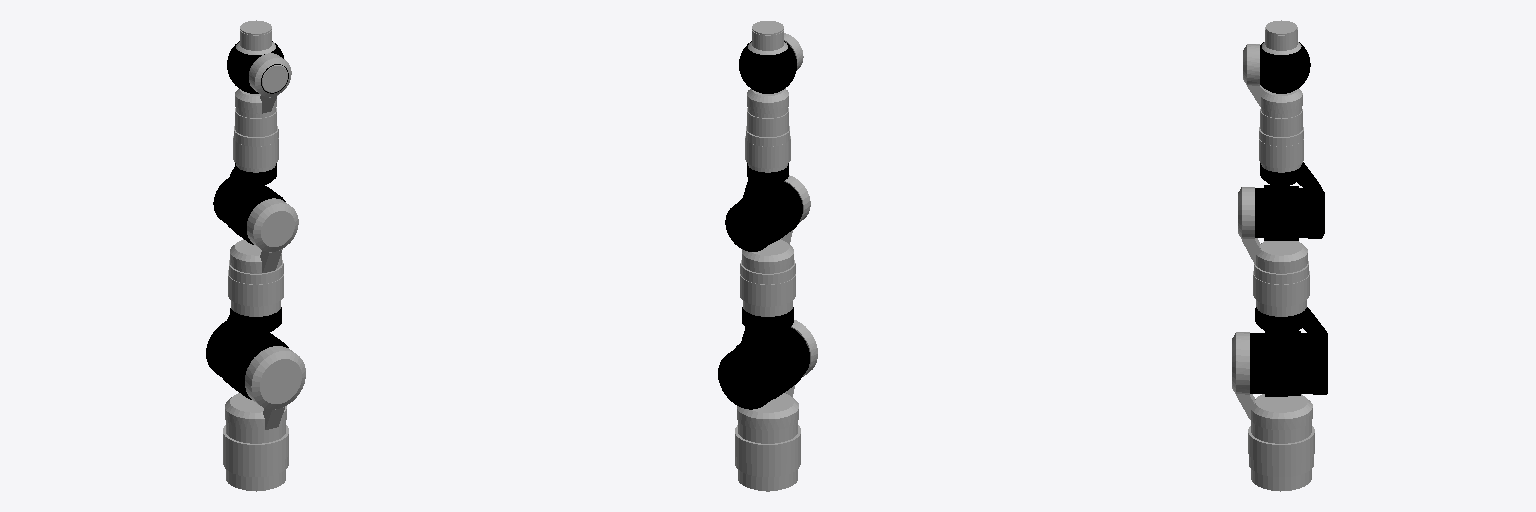
URDF robot description (schunk_lwa4d):
<?xml version="1.0" ?>
<!-- =================================================================================== -->
<!-- |    This document was autogenerated by xacro from lwa4d.xacro                    | -->
<!-- |    EDITING THIS FILE BY HAND IS NOT RECOMMENDED                                 | -->
<!-- =================================================================================== -->
<robot name="schunk_lwa4d">
  <!-- joint between base_link and lwa4p_extended_connector_link -->
  <link name="world"/>

  <joint name="lwa4d_base_joint" type="fixed">
    <origin rpy="0 0 0" xyz="0 0 0"/>
    <parent link="world"/>
    <child link="lwa4d_base_link"/>
  </joint>
  <link name="lwa4d_base_link">
    <inertial>
      <mass value="0.01"/>
      <origin xyz="0 0 0"/>
      <inertia ixx="0.001" ixy="0.0" ixz="0.0" iyy="0.001" iyz="0.0" izz="0.001"/>
    </inertial>
  </link>
  <!-- joint between arm_base_link and arm_1_link -->
  <joint name="lwa4d_1_joint" type="revolute">
    <origin rpy="0 0 0" xyz="0 0 0"/>
    <parent link="lwa4d_base_link"/>
    <child link="lwa4d_1_link"/>
    <axis xyz="0 0 1"/>
    <limit effort="216" lower="-3.121592653589793" upper="3.121592653589793" velocity="0.43633"/>
  </joint>
  <link name="lwa4d_1_link">
    <inertial>
      <mass value="0.01"/>
      <origin xyz="0 0 0"/>
      <inertia ixx="0.001" ixy="0.0" ixz="0.0" iyy="0.001" iyz="0.0" izz="0.001"/>
    </inertial>
    <!--
      <xacro:cylinder_inertial radius="0.06" length="0.150" mass="3.6">
          <origin xyz="0 0 0.02" rpy="0 0 0"/>
      </xacro:cylinder_inertial>
-->
    <visual>
      <geometry>
        <mesh filename="meshes/lwa4d/arm_1_link.dae"/>
      </geometry>
      <material name="Schunk/LightGrey"/>
    </visual>
    <collision>
      <geometry>
        <mesh filename="meshes/lwa4d/arm_1_link.stl"/>
      </geometry>
    </collision>
  </link>
  <!-- joint between arm_1_link and arm_2_link -->
  <joint name="lwa4d_2_joint" type="revolute">
    <origin rpy="-1.5707963267948966 -1.5707963267948966 0" xyz="0 0 0.240"/>
    <parent link="lwa4d_1_link"/>
    <child link="lwa4d_2_link"/>
    <axis xyz="0 0 -1"/>
    <limit effort="216" lower="-2.12" upper="2.12" velocity="0.43633"/>
  </joint>
  <link name="lwa4d_2_link">
    <inertial>
      <mass value="0.01"/>
      <origin xyz="0 0 0"/>
      <inertia ixx="0.001" ixy="0.0" ixz="0.0" iyy="0.001" iyz="0.0" izz="0.001"/>
    </inertial>
    <!--
      <xacro:cylinder_inertial radius="0.06" length="0.150" mass="2.0">
        <origin xyz="0 0 0" rpy="0 0 0"/>
      </xacro:cylinder_inertial>
-->
    <visual>
      <geometry>
        <mesh filename="meshes/lwa4d/arm_2_link.dae"/>
      </geometry>
      <material name="Schunk/Black"/>
    </visual>
    <collision>
      <geometry>
        <mesh filename="meshes/lwa4d/arm_2_link_collision.stl"/>
      </geometry>
    </collision>
  </link>
  <!-- joint between arm_2_link and arm_3_link -->
  <joint name="lwa4d_3_joint" type="revolute">
    <origin rpy="1.5707963267948966 0 1.5707963267948966" xyz="0 0 0"/>
    <parent link="lwa4d_2_link"/>
    <child link="lwa4d_3_link"/>
    <axis xyz="0 0 -1"/>
    <limit effort="81.5" lower="-3.121592653589793" upper="3.121592653589793" velocity="0.4189"/>
  </joint>
  <link name="lwa4d_3_link">
    <inertial>
      <mass value="0.01"/>
      <origin xyz="0 0 0"/>
      <inertia ixx="0.001" ixy="0.0" ixz="0.0" iyy="0.001" iyz="0.0" izz="0.001"/>
    </inertial>
    <!--
      <xacro:cylinder_inertial radius="0.06" length="0.2" mass="2.0">
        <origin xyz="0.0 0 -0.2" rpy="0 0 0"/>
      </xacro:cylinder_inertial>
-->
    <visual>
      <geometry>
        <mesh filename="meshes/lwa4d/arm_3_link.dae"/>
      </geometry>
      <material name="Schunk/LightGrey"/>
    </visual>
    <collision>
      <geometry>
        <mesh filename="meshes/lwa4d/arm_3_link_collision.stl"/>
      </geometry>
    </collision>
  </link>
  <!-- joint between arm_3_link and arm_4_link -->
  <joint name="lwa4d_4_joint" type="revolute">
    <origin rpy="-1.5707963267948966 -1.5707963267948966 0" xyz="0 0 0.328"/>
    <parent link="lwa4d_3_link"/>
    <child link="lwa4d_4_link"/>
    <axis xyz="0 0 -1"/>
    <limit effort="81.5" lower="-2.16" upper="2.16" velocity="0.4189"/>
  </joint>
  <link name="lwa4d_4_link">
    <inertial>
      <mass value="0.01"/>
      <origin xyz="0 0 0"/>
      <inertia ixx="0.001" ixy="0.0" ixz="0.0" iyy="0.001" iyz="0.0" izz="0.001"/>
    </inertial>
    <!--
      <xacro:cylinder_inertial radius="0.06" length="0.150" mass="1.2">
        <origin xyz="0 0 0" rpy="0 0 0"/>
      </xacro:cylinder_inertial>
-->
    <visual>
      <geometry>
        <mesh filename="meshes/lwa4d/arm_4_link.dae"/>
      </geometry>
      <material name="Schunk/Black"/>
    </visual>
    <collision>
      <geometry>
        <mesh filename="meshes/lwa4d/arm_4_link_collision.stl"/>
      </geometry>
    </collision>
  </link>
  <!-- joint between arm_4_link and arm_5_link -->
  <joint name="lwa4d_5_joint" type="revolute">
    <origin rpy="1.5707963267948966 0 1.5707963267948966" xyz="0 0 0"/>
    <parent link="lwa4d_4_link"/>
    <child link="lwa4d_5_link"/>
    <axis xyz="0 0 -1"/>
    <limit effort="20.7" lower="-3.121592653589793" upper="3.121592653589793" velocity="0.43633"/>
  </joint>
  <link name="lwa4d_5_link">
    <inertial>
      <mass value="0.01"/>
      <origin xyz="0 0 0"/>
      <inertia ixx="0.001" ixy="0.0" ixz="0.0" iyy="0.001" iyz="0.0" izz="0.001"/>
    </inertial>
    <!--
      <xacro:cylinder_inertial radius="0.06" length="0.15" mass="1.2">
        <origin xyz="0 0 -0.18" rpy="0 0 0"/>
      </xacro:cylinder_inertial>
-->
    <visual>
      <geometry>
        <mesh filename="meshes/lwa4d/arm_5_link.dae"/>
      </geometry>
      <material name="Schunk/LightGrey"/>
    </visual>
    <collision>
      <geometry>
        <mesh filename="meshes/lwa4d/arm_5_link_collision.stl"/>
      </geometry>
    </collision>
  </link>
  <!-- joint between arm_5_link and arm_6_link -->
  <joint name="lwa4d_6_joint" type="revolute">
    <origin rpy="-1.5707963267948966 -1.5707963267948966 0" xyz="0 0 0.323"/>
    <parent link="lwa4d_5_link"/>
    <child link="lwa4d_6_link"/>
    <axis xyz="0 0 1"/>
    <limit effort="15" lower="-2.07" upper="2.07" velocity="1.2566"/>
  </joint>
  <link name="lwa4d_6_link">
    <inertial>
      <mass value="0.01"/>
      <origin xyz="0 0 0"/>
      <inertia ixx="0.001" ixy="0.0" ixz="0.0" iyy="0.001" iyz="0.0" izz="0.001"/>
    </inertial>
    <!--
      <xacro:sphere_inertial radius="0.05" mass="1.9">
        <origin xyz="0 0 0" rpy="0 0 0"/>
      </xacro:sphere_inertial>
-->
    <visual>
      <geometry>
        <mesh filename="meshes/lwa4d/arm_6_link.dae"/>
      </geometry>
      <material name="Schunk/Black"/>
    </visual>
    <collision>
      <geometry>
        <mesh filename="meshes/lwa4d/arm_6_link_collision.stl"/>
      </geometry>
    </collision>
  </link>
  <!-- joint between arm_6_link and arm_7_link -->
  <joint name="lwa4d_7_joint" type="revolute">
    <origin rpy="1.5707963267948966 0 1.5707963267948966" xyz="0 0 0"/>
    <parent link="lwa4d_6_link"/>
    <child link="lwa4d_7_link"/>
    <axis xyz="0 0 1"/>
    <limit effort="15" lower="-2.94" upper="2.94" velocity="1.2566"/>
  </joint>
  <link name="lwa4d_7_link">
    <inertial>
      <mass value="0.01"/>
      <origin xyz="0 0 0"/>
      <inertia ixx="0.001" ixy="0.0" ixz="0.0" iyy="0.001" iyz="0.0" izz="0.001"/>
    </inertial>
    <!--
      <xacro:cylinder_inertial radius="0.03" length="0.035" mass="0.05">
        <origin xyz="0 0 0.06" rpy="0 0 0"/>
      </xacro:cylinder_inertial>
-->
    <visual>
      <geometry>
        <mesh filename="meshes/lwa4d/arm_7_link.dae"/>
      </geometry>
      <material name="Schunk/LightGrey"/>
    </visual>
    <collision>
      <geometry>
        <mesh filename="meshes/lwa4d/arm_7_link.stl"/>
      </geometry>
    </collision>
  </link>
  <joint name="lwa4d_ee_joint" type="fixed">
    <origin rpy="0 0 0" xyz="0 0 0.0824"/>
    <parent link="lwa4d_7_link"/>
    <child link="lwa4d_ee_link"/>
  </joint>
  <link name="lwa4d_ee_link">
    <inertial>
      <mass value="0.01"/>
      <origin xyz="0 0 0"/>
      <inertia ixx="0.001" ixy="0.0" ixz="0.0" iyy="0.001" iyz="0.0" izz="0.001"/>
    </inertial>
  </link>
  <gazebo reference="lwa4d_base_link">
    <gravity>true</gravity>
    <self_collide>false</self_collide>
    <material value="Schunk/Black"/>
  </gazebo>
  <gazebo reference="lwa4d_1_link">
    <gravity>true</gravity>
    <self_collide>false</self_collide>
    <material value="Schunk/LightGrey"/>
  </gazebo>
  <gazebo reference="lwa4d_2_link">
    <gravity>true</gravity>
    <self_collide>false</self_collide>
    <material value="Schunk/Black"/>
  </gazebo>
  <gazebo reference="lwa4d_3_link">
    <gravity>true</gravity>
    <self_collide>false</self_collide>
    <material value="Schunk/LightGrey"/>
  </gazebo>
  <gazebo reference="lwa4d_4_link">
    <gravity>true</gravity>
    <self_collide>false</self_collide>
    <material value="Schunk/Black"/>
  </gazebo>
  <gazebo reference="lwa4d_5_link">
    <gravity>true</gravity>
    <self_collide>false</self_collide>
    <material value="Schunk/LightGrey"/>
  </gazebo>
  <gazebo reference="lwa4d_6_link">
    <gravity>true</gravity>
    <self_collide>false</self_collide>
    <material value="Schunk/Black"/>
  </gazebo>
  <gazebo reference="lwa4d_7_link">
    <gravity>true</gravity>
    <self_collide>false</self_collide>
    <material value="Schunk/LightGrey"/>
  </gazebo>

</robot>

--- Facts derived from the render (not from the file) ---
3 views of the same robot in one strip: view 1: azimuth 30°, elevation 25°; view 2: azimuth 150°, elevation 25°; view 3: azimuth 270°, elevation 25° (orthographic).
Robot: schunk_lwa4d — 10 links, 9 joints (7 revolute, 2 fixed); root link world; default pose: all joints at 0.
Visible links, largest first — view 1: lwa4d_1_link, lwa4d_3_link, lwa4d_5_link, lwa4d_2_link, lwa4d_4_link, lwa4d_7_link, lwa4d_6_link; view 2: lwa4d_2_link, lwa4d_1_link, lwa4d_4_link, lwa4d_3_link, lwa4d_5_link, lwa4d_6_link, lwa4d_7_link; view 3: lwa4d_1_link, lwa4d_2_link, lwa4d_3_link, lwa4d_4_link, lwa4d_5_link, lwa4d_6_link, lwa4d_7_link.
Link boxes in pixels (x1=…): lwa4d_1_link: x1=223, y1=346, x2=305, y2=491; lwa4d_3_link: x1=228, y1=198, x2=298, y2=316; lwa4d_5_link: x1=233, y1=53, x2=291, y2=172; lwa4d_2_link: x1=206, y1=307, x2=288, y2=399; lwa4d_4_link: x1=213, y1=163, x2=285, y2=244; lwa4d_7_link: x1=236, y1=20, x2=275, y2=54; lwa4d_6_link: x1=227, y1=41, x2=288, y2=93; lwa4d_2_link: x1=718, y1=307, x2=809, y2=409; lwa4d_1_link: x1=735, y1=320, x2=817, y2=491; lwa4d_4_link: x1=725, y1=163, x2=802, y2=251; lwa4d_3_link: x1=740, y1=175, x2=810, y2=316; lwa4d_5_link: x1=745, y1=33, x2=803, y2=172; lwa4d_6_link: x1=739, y1=41, x2=796, y2=93; lwa4d_7_link: x1=748, y1=21, x2=787, y2=54; lwa4d_1_link: x1=1232, y1=332, x2=1314, y2=491; lwa4d_2_link: x1=1250, y1=307, x2=1327, y2=396; lwa4d_3_link: x1=1238, y1=187, x2=1309, y2=316; lwa4d_4_link: x1=1255, y1=162, x2=1324, y2=240; lwa4d_5_link: x1=1243, y1=44, x2=1303, y2=172; lwa4d_6_link: x1=1260, y1=42, x2=1310, y2=93; lwa4d_7_link: x1=1262, y1=20, x2=1301, y2=54.
Size in the robot's own frame: 0.132 by 0.19 by 0.9914 metres.
Meshes: 7 distinct files referenced, 7 mesh visuals loaded (7 Collada DAE).